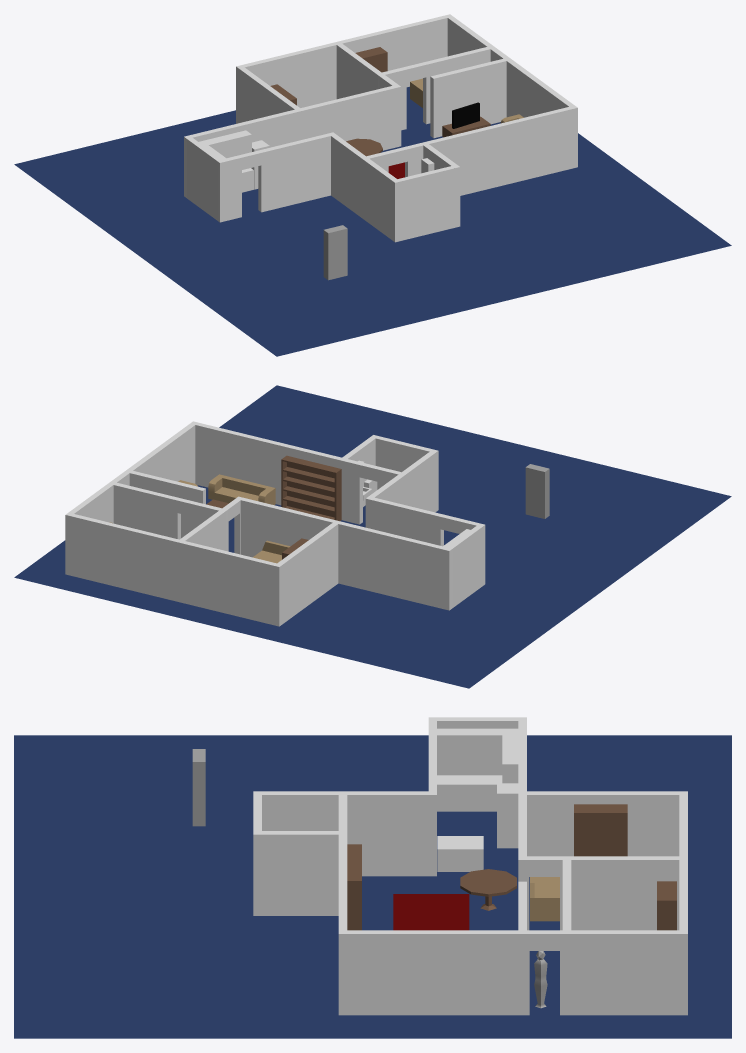
File: Party_Flat_v1.fbx
3 renders of one model, top to bottom at view 1: azimuth 30°, elevation 25°; view 2: azimuth 150°, elevation 25°; view 3: azimuth 270°, elevation 25°, orthographic. The views are drawn at different scales.
Visible parts, largest first — view 1: pPlane1, pCube3, pCube2, pCube6, pCube4, pCube5, pCube10, pCube1, pCube13, pCube11, pCube9, pCube7 (+4 smaller); view 2: pPlane1, pCube2, pCube4, pCube3, pCube8, pCube1, pCube11, pCube39, pCube6, pCube5, pCube7, pCube9 (+5 smaller); view 3: pPlane1, pCube1, pCube5, pCube9, pCube8, pCube12, pCube22, pCube26, pCube33, pCube21, pCube7, pCube15 (+12 smaller).
Part boxes in pixels (x1,y1,x2,y2): pPlane1: (14, 86, 731, 356); pCube3: (364, 107, 572, 195); pCube2: (239, 15, 447, 107); pCube6: (218, 132, 334, 222); pCube4: (184, 86, 395, 197); pCube5: (329, 133, 400, 242); pCube10: (430, 58, 506, 138); pCube1: (445, 14, 577, 168); pCube13: (397, 166, 454, 240); pCube11: (377, 47, 490, 130); pCube9: (334, 41, 401, 147); pCube7: (187, 137, 223, 220); pPlane1: (14, 385, 731, 688); pCube2: (68, 513, 278, 625); pCube4: (240, 498, 452, 610); pCube3: (194, 422, 401, 524); pCube8: (274, 522, 339, 626); pCube1: (65, 421, 197, 575); pCube11: (113, 482, 227, 551); pCube39: (281, 455, 341, 521); pCube6: (365, 497, 485, 584); pCube5: (366, 449, 438, 512); pCube7: (447, 524, 483, 607); pCube9: (177, 496, 243, 554); pPlane1: (14, 735, 731, 1038); pCube1: (338, 930, 687, 1015); pCube5: (253, 791, 436, 876); pCube9: (518, 856, 687, 930); pCube8: (522, 791, 687, 856); pCube12: (253, 831, 342, 915); pCube22: (437, 728, 518, 783); pCube26: (574, 804, 627, 856); pCube33: (393, 894, 469, 930); pCube21: (437, 775, 502, 811); pCube7: (433, 717, 521, 775); pCube15: (437, 836, 483, 871).
Size of the model in its own units: 24 by 3.01 by 24.
